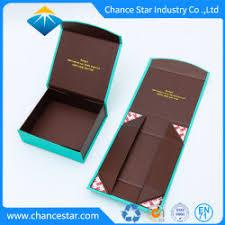Cardboard: (103, 47, 204, 209), (23, 16, 99, 166)
